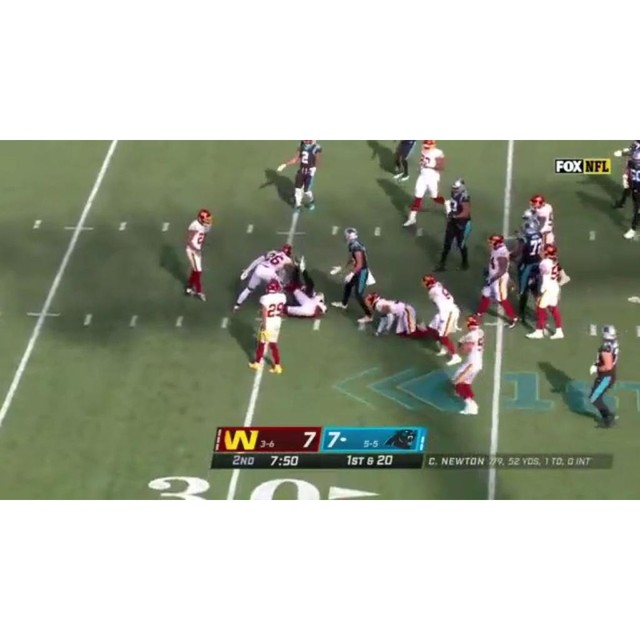american-football-player: (331, 227, 376, 324), (527, 245, 571, 342), (232, 245, 295, 312), (402, 141, 448, 227), (250, 278, 290, 375), (479, 235, 519, 328), (421, 274, 462, 364), (450, 316, 486, 417), (586, 329, 621, 432), (436, 181, 473, 272), (364, 292, 430, 340), (182, 209, 214, 302), (620, 148, 640, 242), (526, 194, 556, 245)
